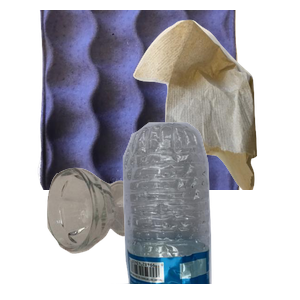glass: (44, 165, 178, 300)
paper: (35, 10, 268, 190)
plastic: (111, 120, 300, 300)
trash: (131, 17, 300, 197)
